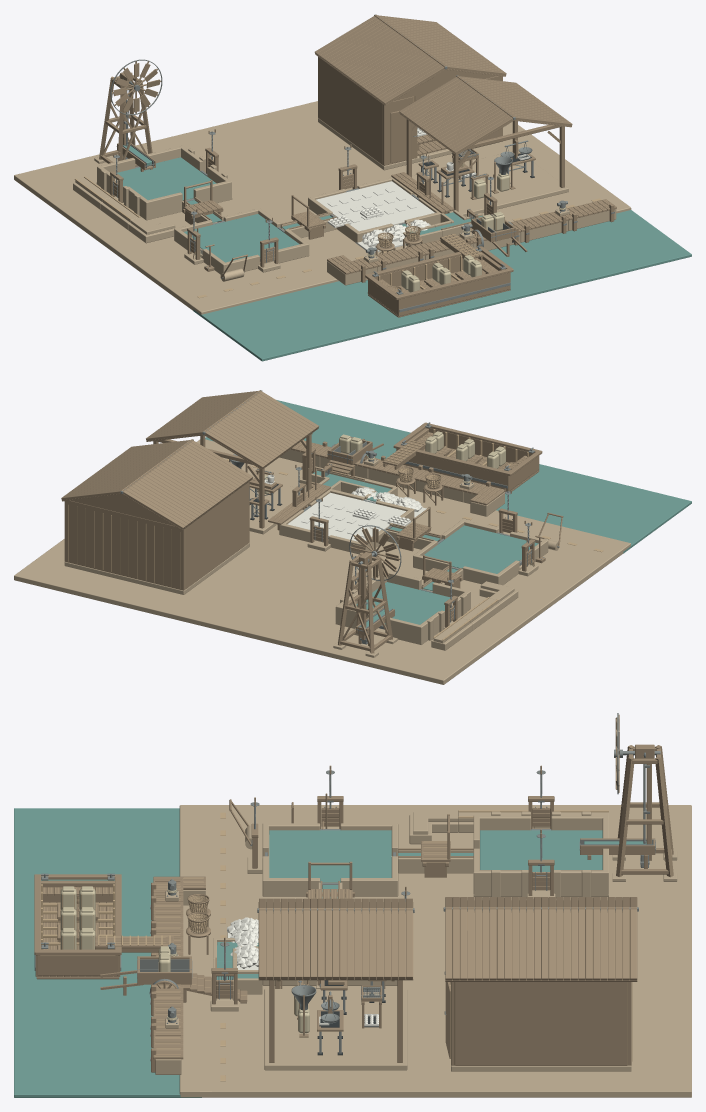
File: coastal-saltworks-and-trade-port-coastal-689ead20-starter-scene__31410.glb
3 renders of one model, top to bottom at view 1: azimuth 30°, elevation 25°; view 2: azimuth 150°, elevation 25°; view 3: azimuth 270°, elevation 25°, orthographic. The views are drawn at different scales.
Visible parts, largest first — view 1: 000-coastal-saltworks-and-trade-port-coastal-saltworks-base/ (×2), 032-coastal-saltworks-and-trade-port-roofed-salt-warehouse/1, 033-coastal-saltworks-and-trade-port-salter-shelter/1, 084-coastal-saltworks-and-trade-port-shallow-salt-cargo-barg, 033-coastal-saltworks-and-trade-port-salter-shelter/0, 001-coastal-saltworks-and-trade-port-reservoir-basin/0, 003-coastal-saltworks-and-trade-port-crystallization-basin/1, 002-coastal-saltworks-and-trade-port-evaporation-basin/1, 001-coastal-saltworks-and-trade-port-reservoir-basin/1, 002-coastal-saltworks-and-trade-port-evaporation-basin/0, 028-coastal-saltworks-and-trade-port-wind-pump-tower/0, 003-coastal-saltworks-and-trade-port-crystallization-basin/0 (+13 smaller); view 2: 000-coastal-saltworks-and-trade-port-coastal-saltworks-base/ (×2), 032-coastal-saltworks-and-trade-port-roofed-salt-warehouse/1, 033-coastal-saltworks-and-trade-port-salter-shelter/1, 084-coastal-saltworks-and-trade-port-shallow-salt-cargo-barg, 002-coastal-saltworks-and-trade-port-evaporation-basin/1, 001-coastal-saltworks-and-trade-port-reservoir-basin/0, 003-coastal-saltworks-and-trade-port-crystallization-basin/1, 028-coastal-saltworks-and-trade-port-wind-pump-tower/0, 002-coastal-saltworks-and-trade-port-evaporation-basin/0, 001-coastal-saltworks-and-trade-port-reservoir-basin/1, 003-coastal-saltworks-and-trade-port-crystallization-basin/0, 033-coastal-saltworks-and-trade-port-salter-shelter/0 (+15 smaller); view 3: 000-coastal-saltworks-and-trade-port-coastal-saltworks-base/ (×2), 032-coastal-saltworks-and-trade-port-roofed-salt-warehouse/1, 033-coastal-saltworks-and-trade-port-salter-shelter/1, 033-coastal-saltworks-and-trade-port-salter-shelter/0, 084-coastal-saltworks-and-trade-port-shallow-salt-cargo-barg (×2), 002-coastal-saltworks-and-trade-port-evaporation-basin/1, 001-coastal-saltworks-and-trade-port-reservoir-basin/0, 001-coastal-saltworks-and-trade-port-reservoir-basin/1, 002-coastal-saltworks-and-trade-port-evaporation-basin/0, 028-coastal-saltworks-and-trade-port-wind-pump-tower/0, 071-coastal-saltworks-and-trade-port-two-wheel-salt-cart/0, 027-coastal-saltworks-and-trade-port-embankment-corner/0 (+20 smaller).
Part boxes in pixels (box(x1,y1,x2,y2)): 000-coastal-saltworks-and-trade-port-coastal-saltworks-base/ (×2): box(14, 101, 691, 361); 032-coastal-saltworks-and-trade-port-roofed-salt-warehouse/1: box(314, 14, 506, 165); 033-coastal-saltworks-and-trade-port-salter-shelter/1: box(399, 75, 572, 211); 084-coastal-saltworks-and-trade-port-shallow-salt-cargo-barg: box(365, 246, 513, 317); 033-coastal-saltworks-and-trade-port-salter-shelter/0: box(412, 151, 568, 216); 001-coastal-saltworks-and-trade-port-reservoir-basin/0: box(96, 145, 232, 220); 003-coastal-saltworks-and-trade-port-crystallization-basin/1: box(316, 181, 434, 231); 002-coastal-saltworks-and-trade-port-evaporation-basin/1: box(184, 214, 299, 262); 001-coastal-saltworks-and-trade-port-reservoir-basin/1: box(117, 157, 216, 200); 002-coastal-saltworks-and-trade-port-evaporation-basin/0: box(174, 208, 309, 274); 028-coastal-saltworks-and-trade-port-wind-pump-tower/0: box(99, 72, 152, 166); 003-coastal-saltworks-and-trade-port-crystallization-basin/0: box(308, 177, 440, 242); 000-coastal-saltworks-and-trade-port-coastal-saltworks-base/ (×2): box(14, 400, 691, 684); 032-coastal-saltworks-and-trade-port-roofed-salt-warehouse/1: box(61, 439, 253, 590); 033-coastal-saltworks-and-trade-port-salter-shelter/1: box(146, 390, 318, 528); 084-coastal-saltworks-and-trade-port-shallow-salt-cargo-barg: box(393, 422, 542, 491); 002-coastal-saltworks-and-trade-port-evaporation-basin/1: box(424, 525, 538, 573); 001-coastal-saltworks-and-trade-port-reservoir-basin/0: box(335, 571, 470, 644); 003-coastal-saltworks-and-trade-port-crystallization-basin/1: box(287, 492, 405, 541); 028-coastal-saltworks-and-trade-port-wind-pump-tower/0: box(338, 552, 392, 653); 002-coastal-saltworks-and-trade-port-evaporation-basin/0: box(413, 519, 548, 585); 001-coastal-saltworks-and-trade-port-reservoir-basin/1: box(356, 582, 450, 624); 003-coastal-saltworks-and-trade-port-crystallization-basin/0: box(279, 489, 414, 554); 033-coastal-saltworks-and-trade-port-salter-shelter/0: box(249, 477, 306, 534); 000-coastal-saltworks-and-trade-port-coastal-saltworks-base/ (×2): box(14, 805, 691, 1097); 032-coastal-saltworks-and-trade-port-roofed-salt-warehouse/1: box(445, 897, 637, 1065); 033-coastal-saltworks-and-trade-port-salter-shelter/1: box(258, 898, 413, 1062); 033-coastal-saltworks-and-trade-port-salter-shelter/0: box(264, 989, 407, 1070); 084-coastal-saltworks-and-trade-port-shallow-salt-cargo-barg (×2): box(34, 874, 121, 979); 002-coastal-saltworks-and-trade-port-evaporation-basin/1: box(269, 830, 391, 882); 001-coastal-saltworks-and-trade-port-reservoir-basin/0: box(473, 811, 608, 897); 001-coastal-saltworks-and-trade-port-reservoir-basin/1: box(480, 830, 602, 871); 002-coastal-saltworks-and-trade-port-evaporation-basin/0: box(262, 823, 398, 896); 028-coastal-saltworks-and-trade-port-wind-pump-tower/0: box(616, 744, 673, 877); 071-coastal-saltworks-and-trade-port-two-wheel-salt-cart/0: box(100, 956, 191, 995); 027-coastal-saltworks-and-trade-port-embankment-corner/0: box(409, 812, 458, 844).
Bounding box in the file's own units: 18 × 4.64 × 18.
